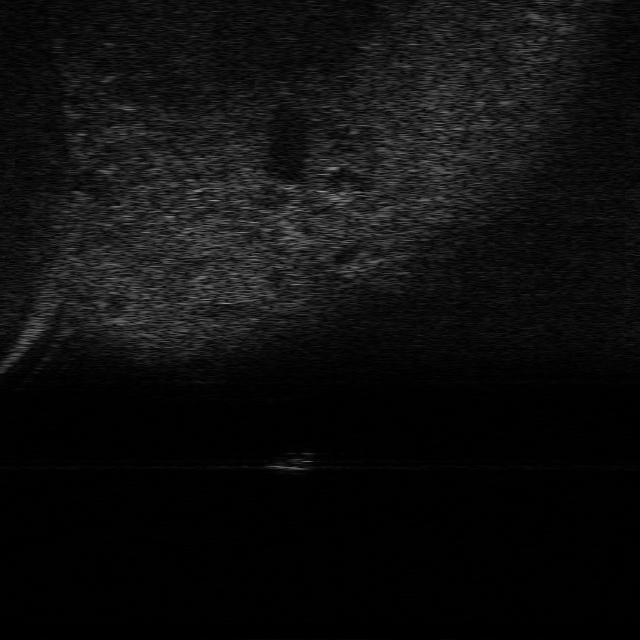cube: (269, 448, 316, 472)
